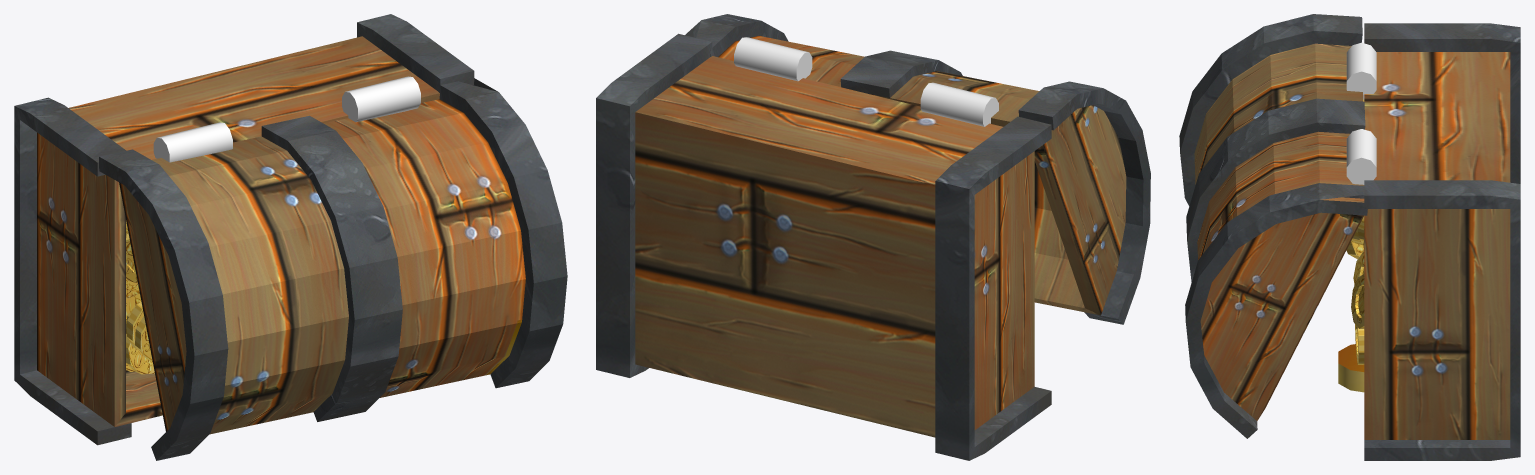
The model's file is chest.glb.
3 renders of one model, left to right at view 1: azimuth 30°, elevation 25°; view 2: azimuth 150°, elevation 25°; view 3: azimuth 270°, elevation 25°, orthographic. The views are drawn at different scales.
Parts seen in each view (by area): view 1: Object_3, Object_6, Object_2, Object_4; view 2: Object_6, Object_3, Object_2; view 3: Object_6, Object_3, Object_2, Object_4.
Part boxes in pixels (<box>): Object_3: <box>99,78,567,460</box>; Object_6: <box>14,14,474,445</box>; Object_2: <box>153,76,420,162</box>; Object_4: <box>126,220,152,360</box>; Object_6: <box>596,33,1051,460</box>; Object_3: <box>685,14,1150,324</box>; Object_2: <box>734,37,998,126</box>; Object_6: <box>1338,23,1520,460</box>; Object_3: <box>1179,14,1367,438</box>; Object_2: <box>1346,42,1376,184</box>; Object_4: <box>1346,99,1364,364</box>.
Size of the model in its own units: 0.4242 by 0.3122 by 0.3472.
Materials: 2 (1 with a texture image).
